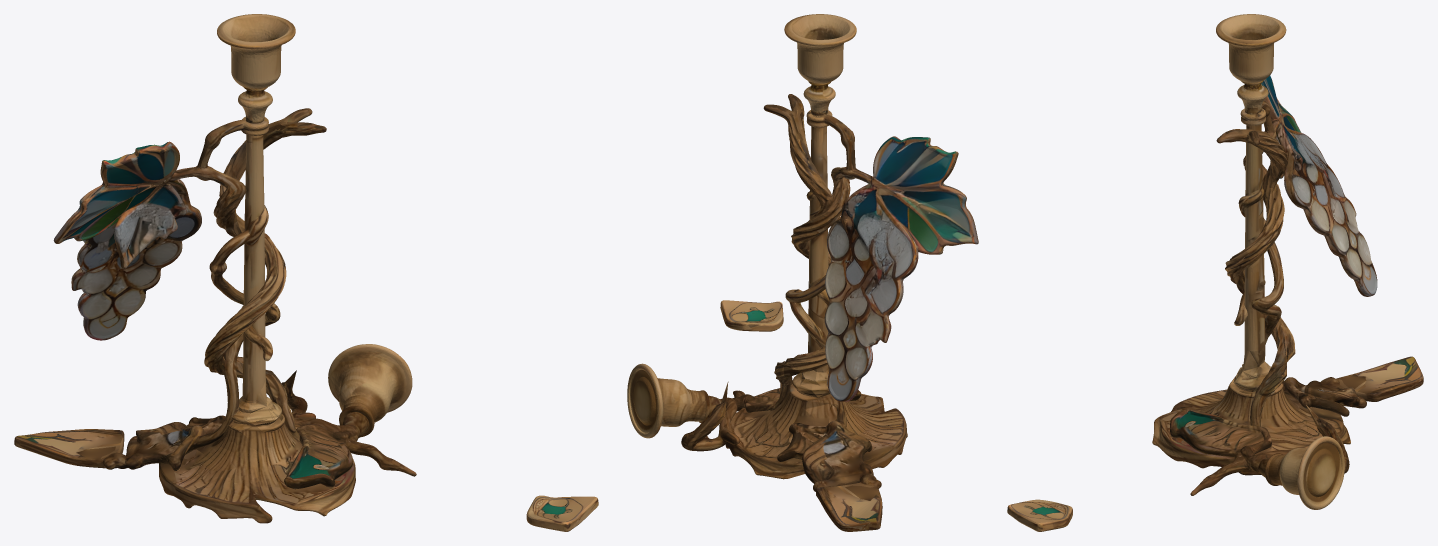
3 views of the same model, side by side, from view 1: azimuth 30°, elevation 25°; view 2: azimuth 150°, elevation 25°; view 3: azimuth 270°, elevation 25° (orthographic). The views are drawn at different scales.
Parts seen in each view (by area): view 1: texture_pbr_v128; view 2: texture_pbr_v128; view 3: texture_pbr_v128.
Boxes of the visible parts, x1,y1,x2,y2 form: texture_pbr_v128: [14, 14, 598, 531]; texture_pbr_v128: [627, 14, 978, 531]; texture_pbr_v128: [1007, 14, 1423, 531].
Bounding box in the file's own units: 0.73 × 0.7698 × 0.7038.
Materials: 1 (1 with a texture image).
